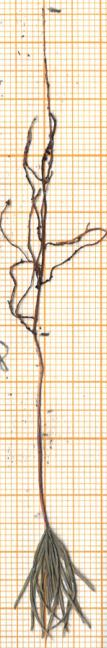flower: (7, 523, 94, 642)
root: (0, 10, 105, 337)
stem: (25, 342, 50, 528)
